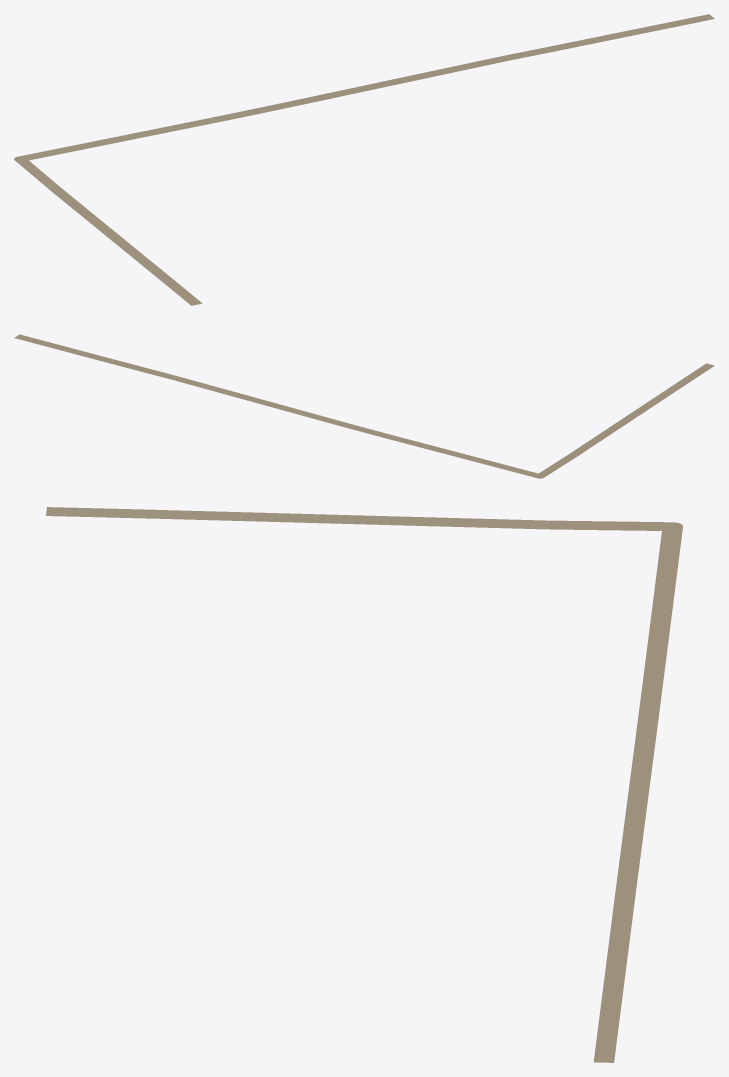
File: farm_26_26_track.glb
The picture shows the model from 3 angles, top to bottom: view 1: azimuth 30°, elevation 25°; view 2: azimuth 150°, elevation 25°; view 3: azimuth 270°, elevation 25°; orthographic projection. The views are drawn at different scales.
Visible parts, largest first — view 1: geometry_0; view 2: geometry_0; view 3: geometry_0.
Part boxes in pixels (x1,y1,x2,y2): geometry_0: [14, 14, 714, 305]; geometry_0: [14, 334, 714, 478]; geometry_0: [46, 507, 682, 1062].
Size of the model in its own units: 206 by 1.78 by 102.
